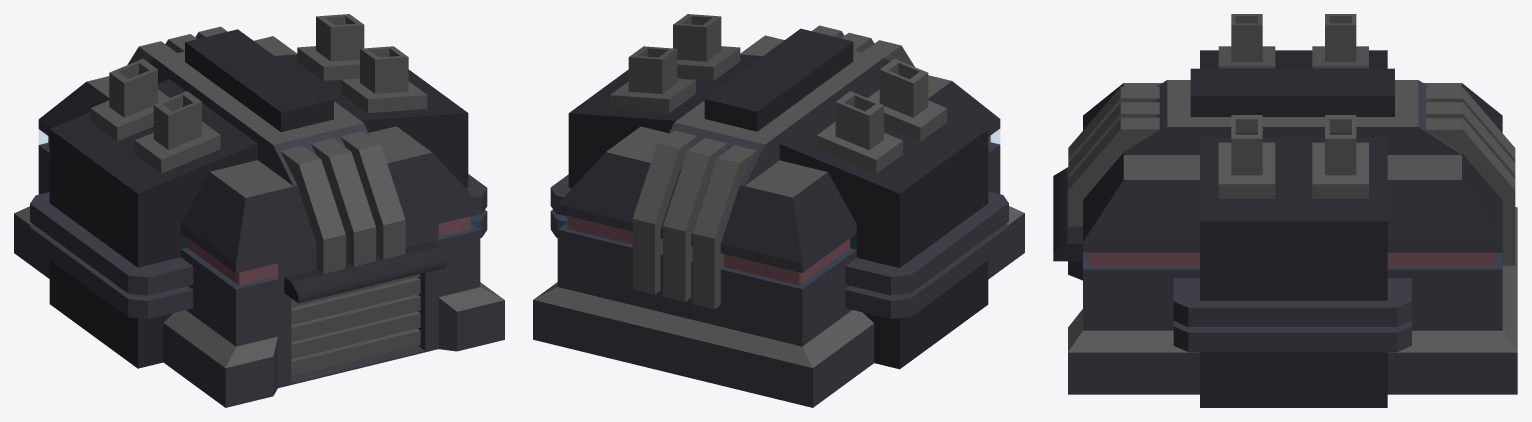
File: factory.fbx
3 renders of one model, left to right at view 1: azimuth 30°, elevation 25°; view 2: azimuth 150°, elevation 25°; view 3: azimuth 270°, elevation 25°, orthographic. The views are drawn at different scales.
Parts seen in each view (by area): view 1: factory1, doorPiece_1, doorPiece_4, doorPiece_2, doorPiece_3, doorPiece_5; view 2: factory1; view 3: factory1.
Part boxes in pixels (x1,y1,x2,y2): factory1: (14,14,504,407); doorPiece_1: (291,277,420,324); doorPiece_4: (291,328,420,376); doorPiece_2: (291,294,420,342); doorPiece_3: (291,311,420,358); doorPiece_5: (291,274,420,307); factory1: (533,14,1024,407); factory1: (1053,14,1517,407).
Size of the model in its own units: 7.35 by 4.64 by 7.74.
